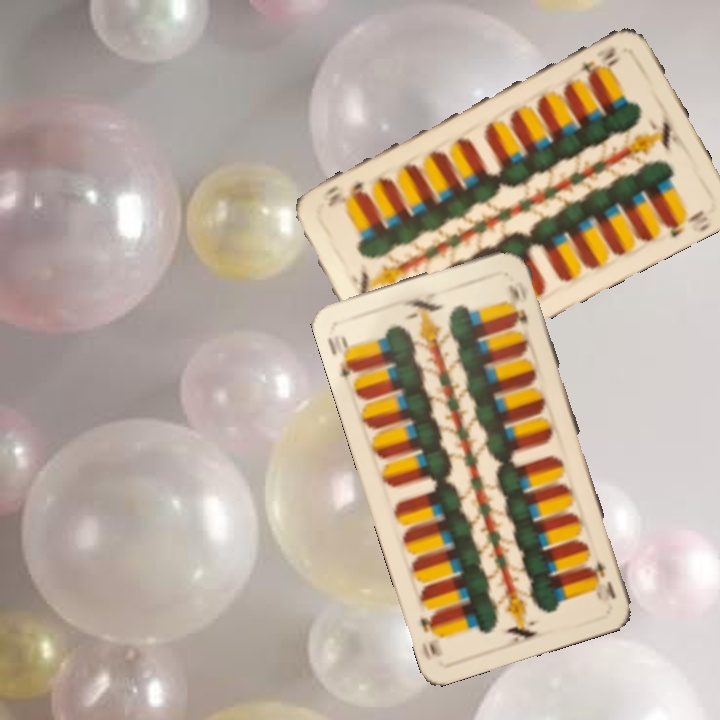E10: (323, 332, 361, 380), (575, 42, 619, 80), (590, 554, 619, 601)
